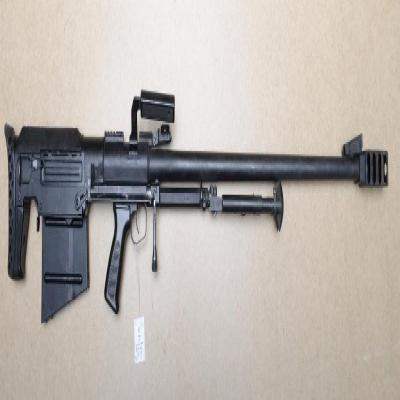weapon: (4, 89, 390, 325)
